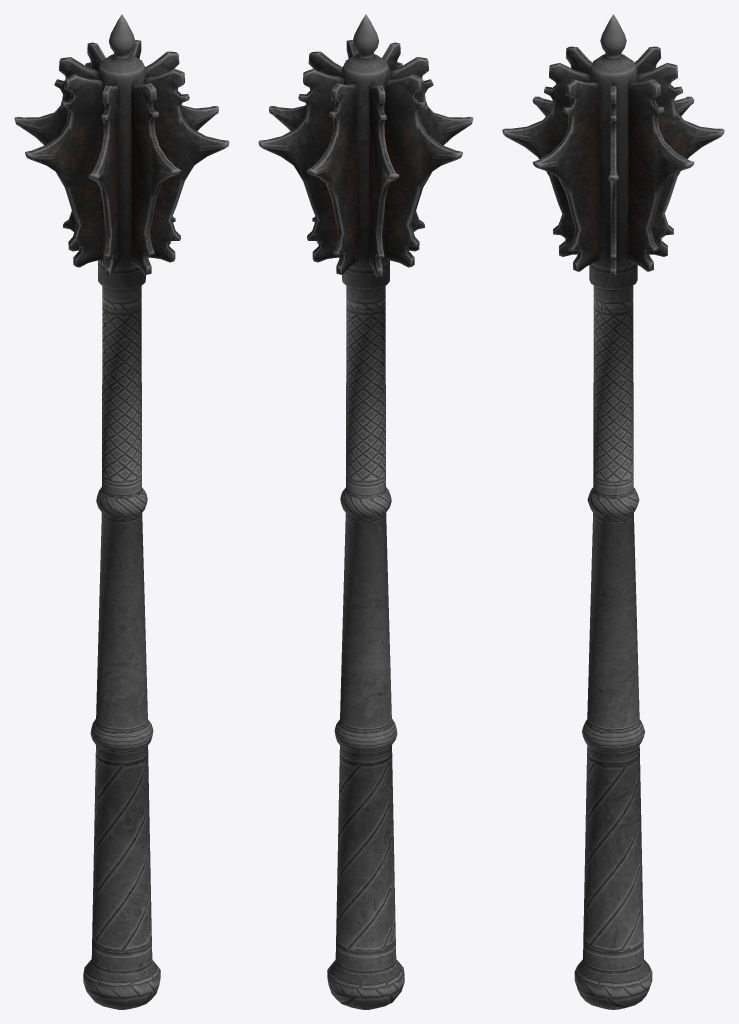
Rendered from SM_Mace_03.fbx.
3 views of the same model, side by side, from view 1: azimuth 30°, elevation 25°; view 2: azimuth 150°, elevation 25°; view 3: azimuth 270°, elevation 25° (orthographic).
Parts seen in each view (by area): view 1: SM_Mace_03_LOD0; view 2: SM_Mace_03_LOD0; view 3: SM_Mace_03_LOD0.
Part boxes in pixels (<box>): SM_Mace_03_LOD0: <box>14,14,229,1009</box>; SM_Mace_03_LOD0: <box>258,14,473,1009</box>; SM_Mace_03_LOD0: <box>502,14,724,1009</box>.
Size of the model in its own units: 18.79 by 18.79 by 92.53.
Materials: 1 (1 with a texture image).
